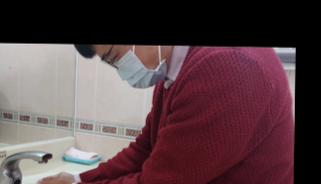with_mask: (96, 45, 169, 90)
